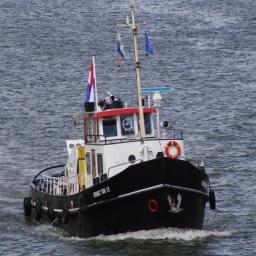tugboat: (23, 5, 218, 245)
